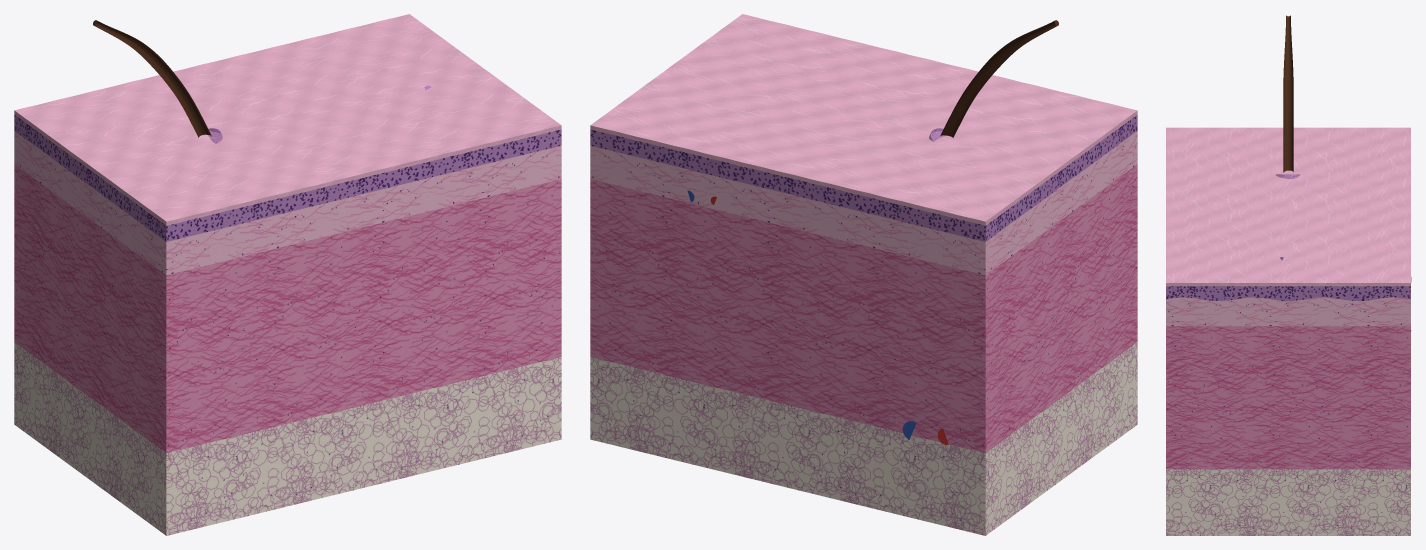
File: pele_fina_procedural.glb
3 renders of one model, left to right at view 1: azimuth 30°, elevation 25°; view 2: azimuth 150°, elevation 25°; view 3: azimuth 270°, elevation 25°, orthographic. The views are drawn at different scales.
Visible parts, largest first — view 1: Derme reticular (anterior), Hipoderme (anterior), Estrato córneo (anterior), Estrato córneo (posterior), Derme papilar (anterior), Derme reticular (posterior), Epiderme (anterior), Hipoderme (posterior), Derme papilar (posterior), Haste do pelo, Epiderme (posterior); view 2: Derme reticular (posterior), Hipoderme (posterior), Estrato córneo (posterior), Estrato córneo (anterior), Derme papilar (posterior), Derme reticular (anterior), Epiderme (posterior), Hipoderme (anterior), Derme papilar (anterior), Haste do pelo, Epiderme (anterior); view 3: Estrato córneo (posterior), Estrato córneo (anterior), Derme reticular (anterior), Derme reticular (posterior), Hipoderme (posterior), Hipoderme (anterior), Derme papilar (anterior), Derme papilar (posterior), Epiderme (posterior), Epiderme (anterior), Haste do pelo.
Part boxes in pixels (bbox=[...]): Derme reticular (anterior): bbox=[90, 179, 561, 453]; Hipoderme (anterior): bbox=[90, 357, 561, 535]; Estrato córneo (anterior): bbox=[90, 69, 561, 225]; Estrato córneo (posterior): bbox=[14, 14, 484, 169]; Derme papilar (anterior): bbox=[90, 145, 561, 275]; Derme reticular (posterior): bbox=[14, 164, 90, 396]; Epiderme (anterior): bbox=[90, 129, 561, 241]; Hipoderme (posterior): bbox=[14, 342, 90, 479]; Derme papilar (posterior): bbox=[14, 131, 90, 219]; Haste do pelo: bbox=[93, 20, 211, 137]; Epiderme (posterior): bbox=[14, 115, 90, 185]; Derme reticular (posterior): bbox=[590, 179, 1061, 453]; Hipoderme (posterior): bbox=[590, 357, 1061, 535]; Estrato córneo (posterior): bbox=[590, 69, 1061, 225]; Estrato córneo (anterior): bbox=[667, 14, 1137, 169]; Derme papilar (posterior): bbox=[590, 145, 1061, 275]; Derme reticular (anterior): bbox=[1061, 164, 1137, 396]; Epiderme (posterior): bbox=[590, 129, 1061, 241]; Hipoderme (anterior): bbox=[1061, 342, 1137, 479]; Derme papilar (anterior): bbox=[1061, 131, 1137, 219]; Haste do pelo: bbox=[940, 20, 1058, 137]; Epiderme (anterior): bbox=[1061, 115, 1137, 185]; Estrato córneo (posterior): bbox=[1288, 127, 1410, 286]; Estrato córneo (anterior): bbox=[1166, 127, 1288, 286]; Derme reticular (anterior): bbox=[1166, 326, 1288, 469]; Derme reticular (posterior): bbox=[1288, 326, 1410, 469]; Hipoderme (posterior): bbox=[1288, 469, 1410, 535]; Hipoderme (anterior): bbox=[1166, 469, 1288, 535]; Derme papilar (anterior): bbox=[1166, 297, 1288, 326]; Derme papilar (posterior): bbox=[1288, 297, 1410, 326]; Epiderme (posterior): bbox=[1288, 286, 1410, 300]; Epiderme (anterior): bbox=[1166, 286, 1288, 300]; Haste do pelo: bbox=[1283, 15, 1293, 172].
Size of the model in its own units: 3 by 3.33 by 2.01.
Materials: 13 (9 with a texture image).
